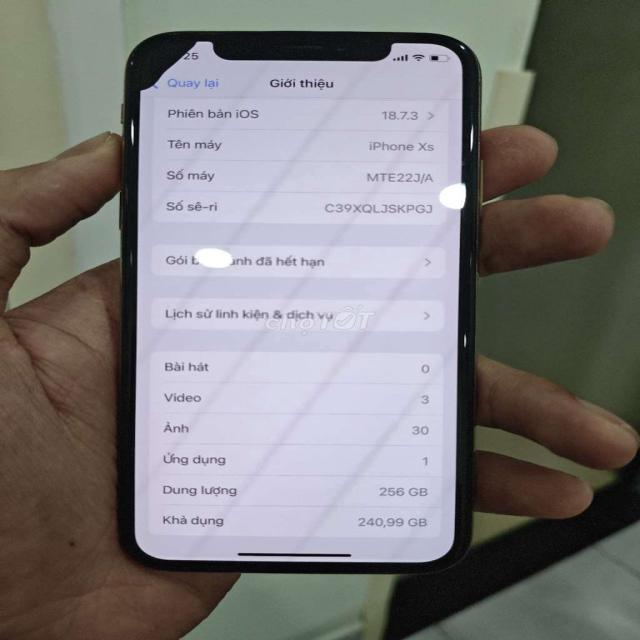screen_defect: (114, 4, 208, 104)
